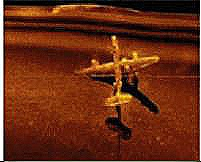aircraft: (73, 34, 160, 108)
